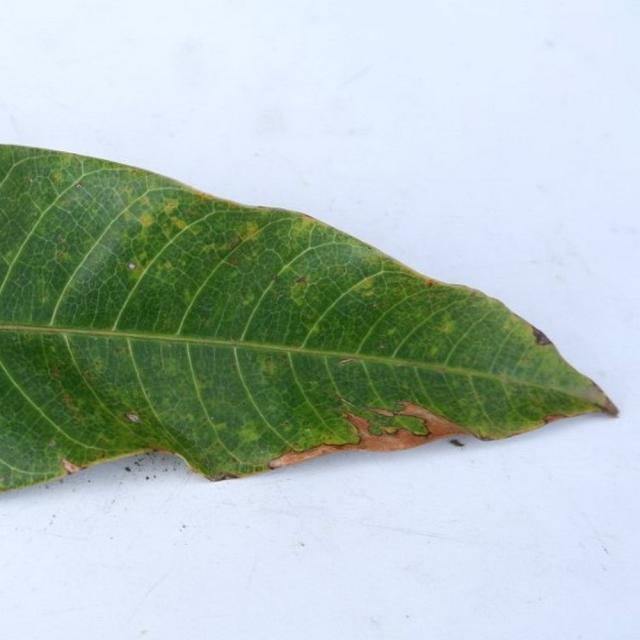Mango: (0, 145, 616, 490)
Powdery_Mildew: (138, 202, 229, 266), (334, 407, 380, 438), (302, 430, 359, 453), (379, 412, 428, 435), (288, 275, 315, 306), (240, 219, 270, 246), (59, 389, 80, 414), (238, 424, 261, 444), (531, 325, 552, 345), (296, 212, 325, 225), (437, 319, 456, 335), (243, 222, 259, 238), (139, 211, 155, 227), (240, 291, 256, 306), (164, 198, 180, 212), (127, 260, 142, 274), (54, 249, 68, 263), (125, 411, 141, 423), (380, 425, 399, 435), (392, 400, 407, 412), (51, 171, 63, 184), (428, 345, 441, 357), (211, 420, 227, 429), (161, 260, 174, 271), (184, 413, 196, 423), (294, 275, 307, 284), (437, 366, 450, 374), (367, 301, 378, 310), (424, 279, 436, 287), (387, 327, 397, 336), (47, 438, 57, 447), (130, 169, 141, 176), (469, 290, 480, 297), (56, 234, 64, 243), (281, 420, 291, 427), (255, 466, 265, 473), (229, 340, 238, 347), (272, 274, 279, 281), (304, 428, 311, 435), (378, 343, 386, 349), (76, 183, 82, 189)
